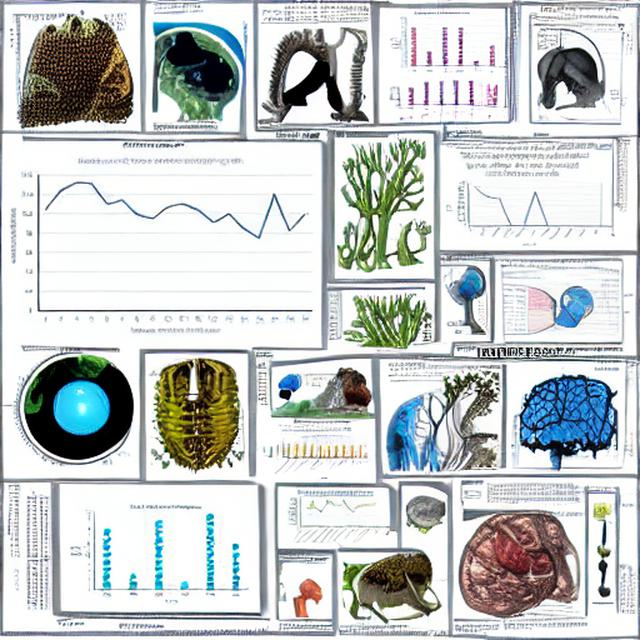Graph: (1, 152, 320, 343), (63, 498, 254, 610), (453, 161, 591, 248), (388, 10, 502, 77), (282, 488, 382, 547), (272, 427, 365, 482)
